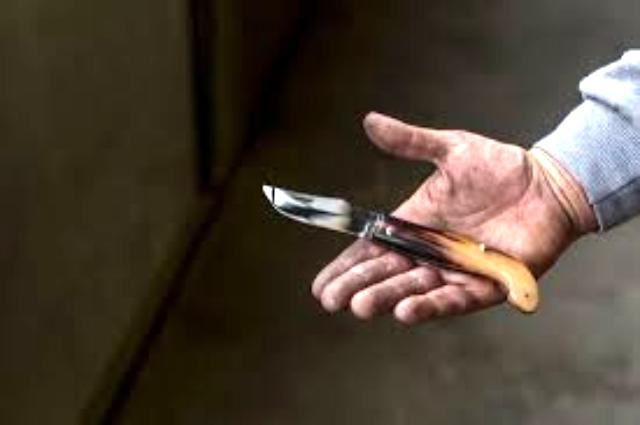pocket-knife: (258, 181, 546, 313)
